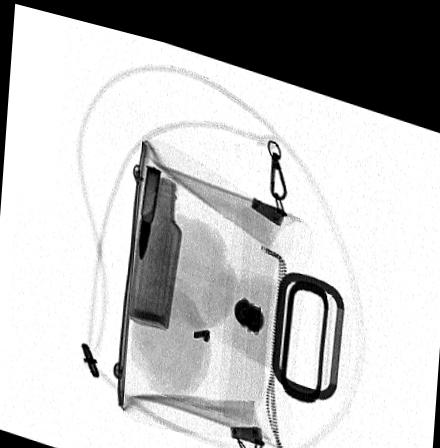Bullet: (136, 156, 160, 256)
